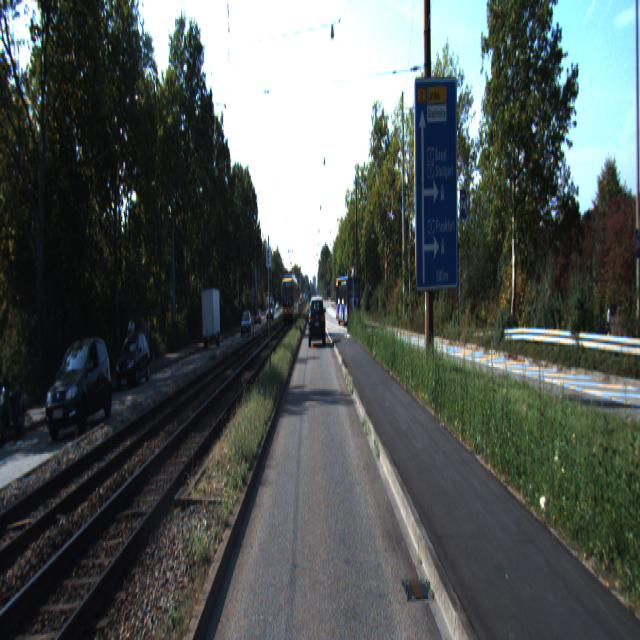Car: (45, 335, 117, 442), (115, 333, 151, 392), (335, 276, 362, 328), (201, 289, 221, 351), (309, 298, 325, 347)
